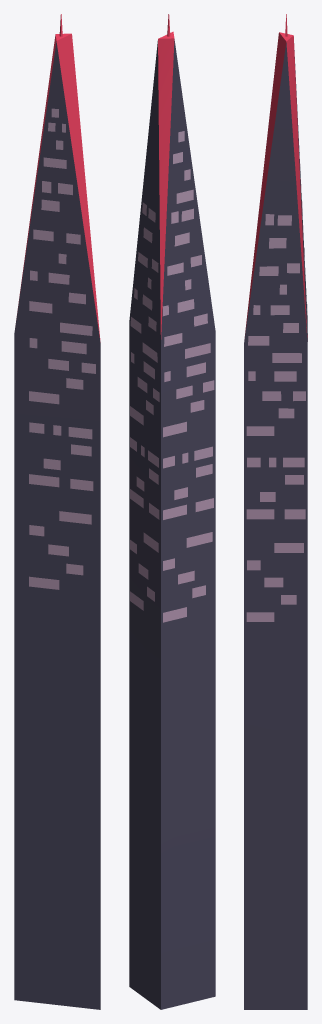
The model's file is CbpBuild C.fbx.
3 views of the same model, side by side, from view 1: azimuth 30°, elevation 25°; view 2: azimuth 210°, elevation 25°; view 3: azimuth 270°, elevation 25° (orthographic).
Visible parts, largest first — view 1: CbpBuild C; view 2: CbpBuild C; view 3: CbpBuild C.
Boxes of the visible parts, bbox=[...] form: CbpBuild C: bbox=[14, 14, 100, 1009]; CbpBuild C: bbox=[129, 14, 215, 1009]; CbpBuild C: bbox=[244, 14, 307, 1009].
Bounding box in the file's own units: 6.91 × 117 × 6.87.
